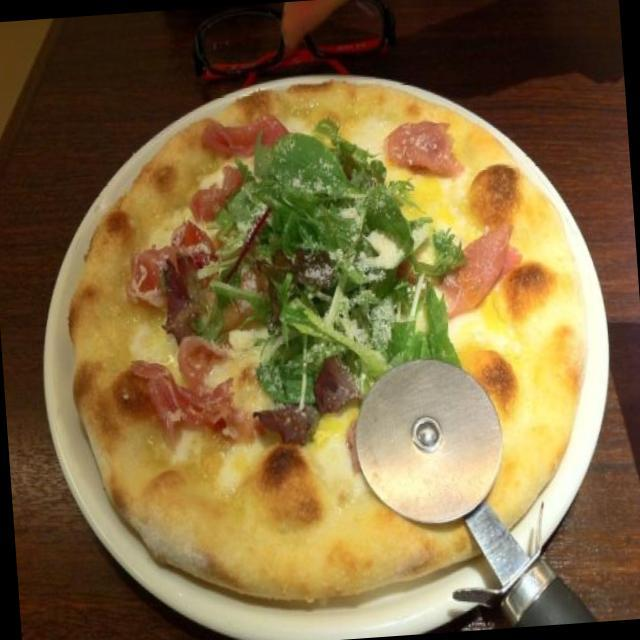Pizza: (41, 52, 606, 619)
